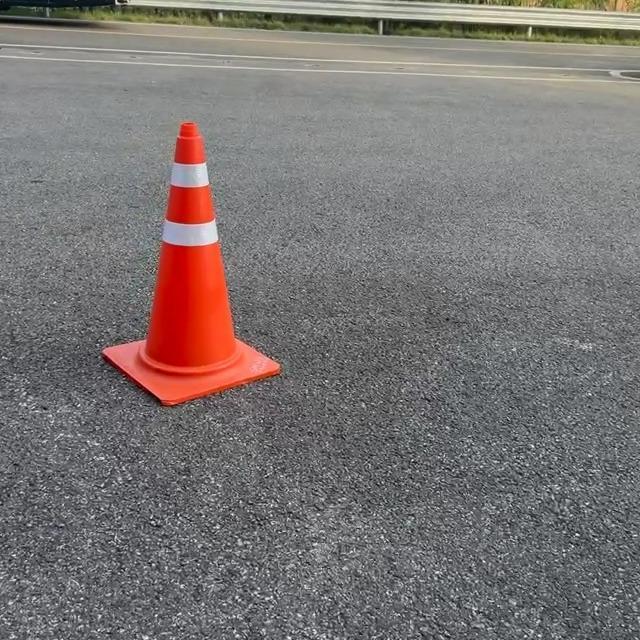fallen_object: (87, 79, 339, 462)
